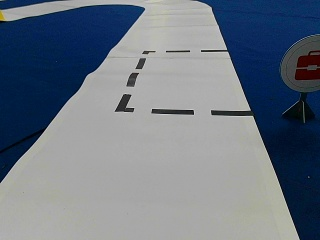company: (280, 34, 319, 90)
